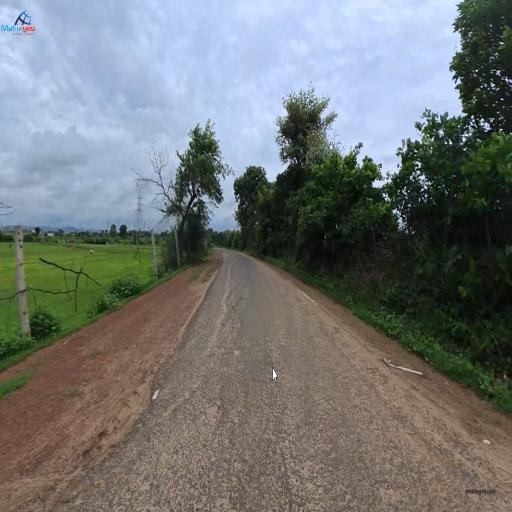edge_damage: (183, 381, 392, 497)
